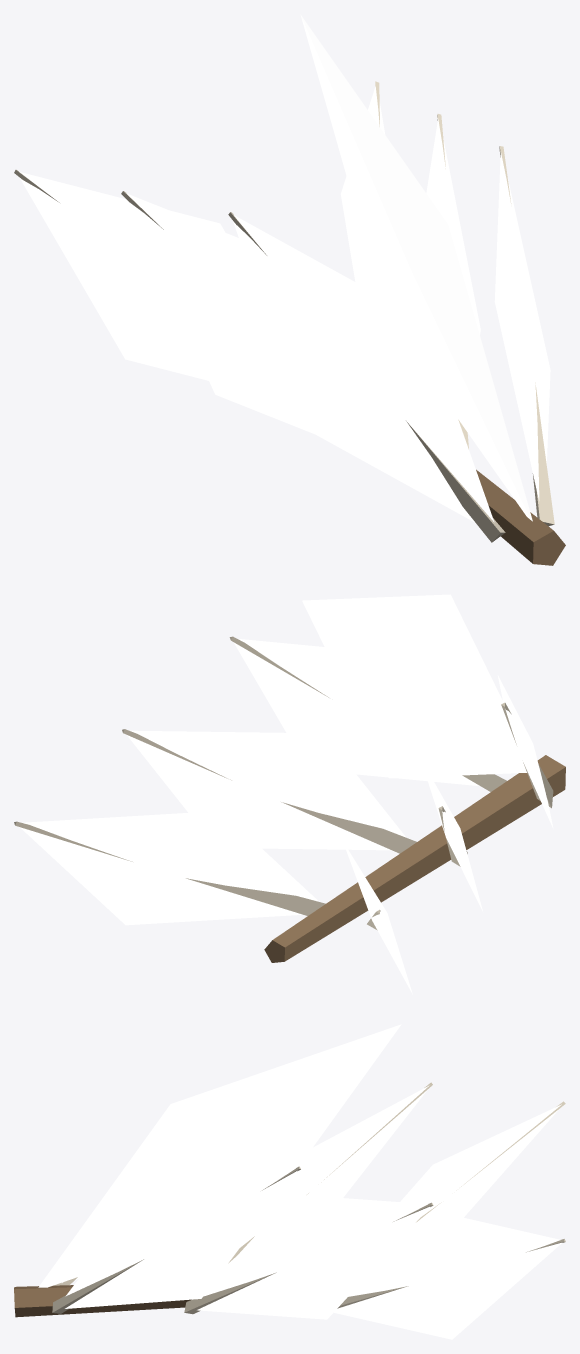
The model's file is fletching.glb.
3 views of the same model, one above another, from view 1: azimuth 30°, elevation 25°; view 2: azimuth 150°, elevation 25°; view 3: azimuth 270°, elevation 25° (orthographic). The views are drawn at different scales.
Visible parts, largest first — view 1: fletching; view 2: fletching; view 3: fletching.
Boxes of the visible parts, box(x1,y1,x2,y2) form: fletching: box(14, 14, 565, 565); fletching: box(14, 594, 565, 994); fletching: box(14, 1024, 565, 1339).
Bounding box in the file's own units: 0.323 × 0.3152 × 0.5419.
